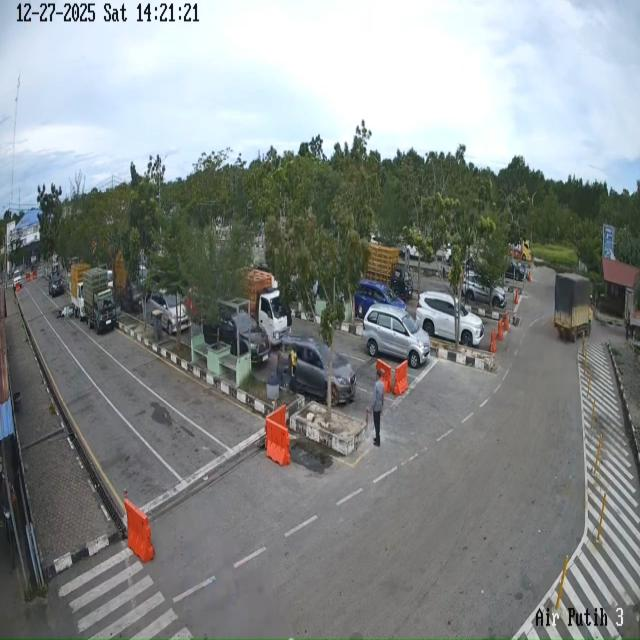Golongan IVA: (282, 335, 356, 405), (363, 304, 430, 369), (416, 291, 484, 347), (203, 311, 270, 364), (354, 279, 406, 319), (147, 292, 191, 334), (462, 271, 506, 308), (504, 259, 526, 281), (48, 271, 65, 297)
Golongan IVB: (83, 267, 117, 334), (70, 266, 90, 324)
Golongan VB: (554, 273, 593, 342)
